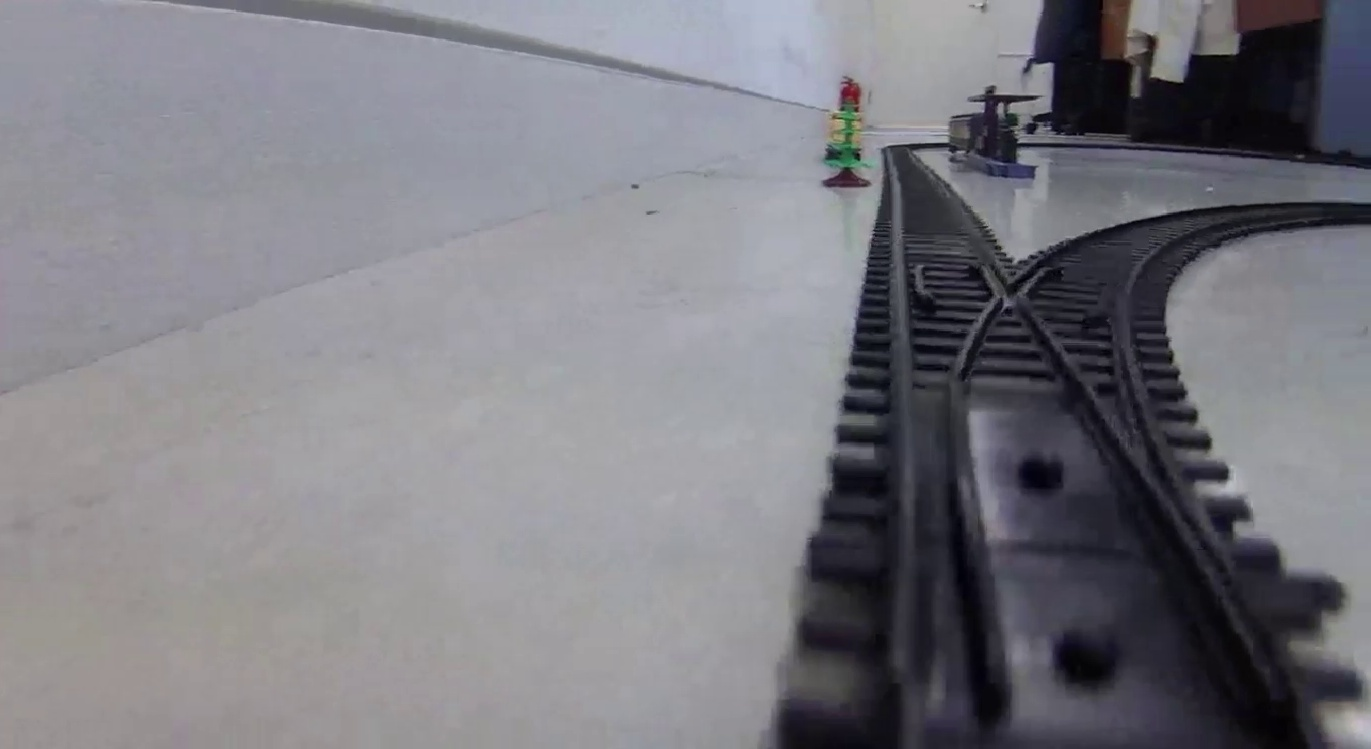tree: (828, 99, 870, 188)
